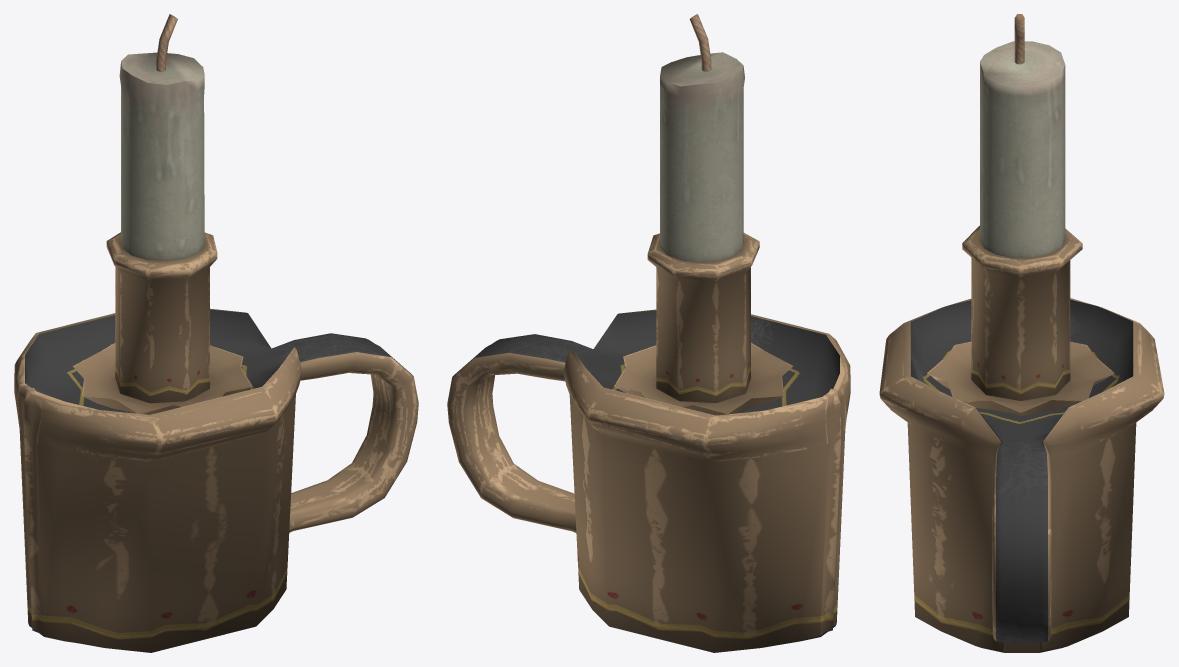
The model's file is Candle Holder.fbx.
3 views of the same model, side by side, from view 1: azimuth 30°, elevation 25°; view 2: azimuth 150°, elevation 25°; view 3: azimuth 270°, elevation 25° (orthographic).
Parts seen in each view (by area): view 1: Cube; view 2: Cube; view 3: Cube.
Boxes of the visible parts, bbox=[...] form: Cube: bbox=[14, 14, 418, 652]; Cube: bbox=[447, 14, 850, 652]; Cube: bbox=[879, 14, 1164, 652].
Size of the model in its own units: 30.58 by 44.55 by 19.52.
